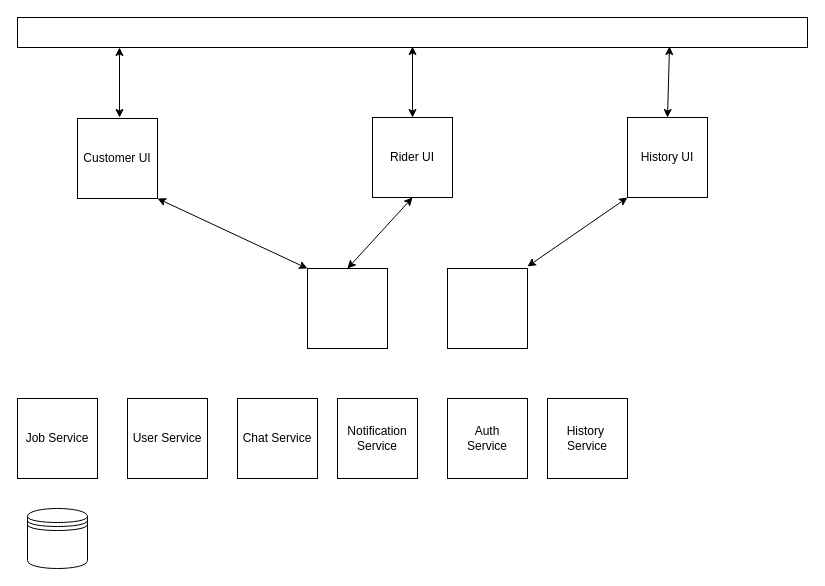
Image size: 825x586. Some labels were removed from this diagram. Each missing label, with the centre of its shape:
"GraphQL API Gateway" goes at (x=487, y=308).
"REST API Gateway" goes at (x=347, y=308).
"Web Gateway" goes at (x=412, y=32).
